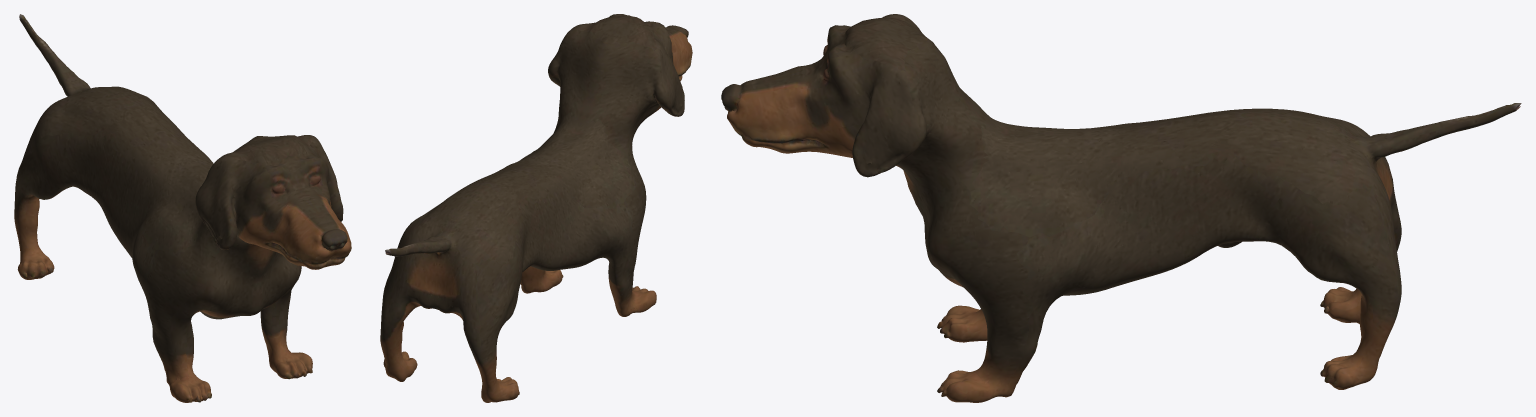
The model's file is dog1-transformed.glb.
3 renders of one model, left to right at view 1: azimuth 30°, elevation 25°; view 2: azimuth 150°, elevation 25°; view 3: azimuth 270°, elevation 25°, orthographic. The views are drawn at different scales.
Visible parts, largest first — view 1: Dog Dachshund -Tacskó; view 2: Dog Dachshund -Tacskó; view 3: Dog Dachshund -Tacskó.
Part boxes in pixels (x1,y1,x2,y2): Dog Dachshund -Tacskó: (14, 14, 351, 402); Dog Dachshund -Tacskó: (380, 14, 692, 402); Dog Dachshund -Tacskó: (721, 14, 1521, 402).
Size of the model in its own units: 1.57 by 2.81 by 6.01.
Materials: 1 (1 with a texture image).
